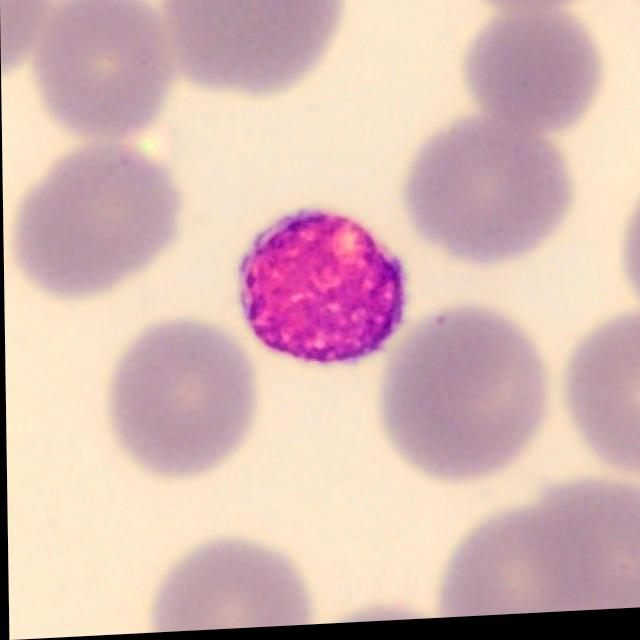Linfocito: (236, 211, 400, 368)
